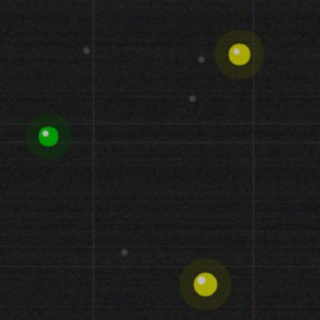green_normal: (36, 124, 60, 148)
yellow_warning: (191, 270, 219, 298), (226, 41, 252, 67)
